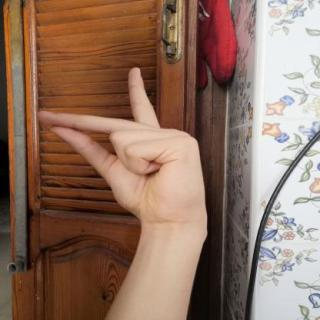TAA: (28, 57, 219, 232)
